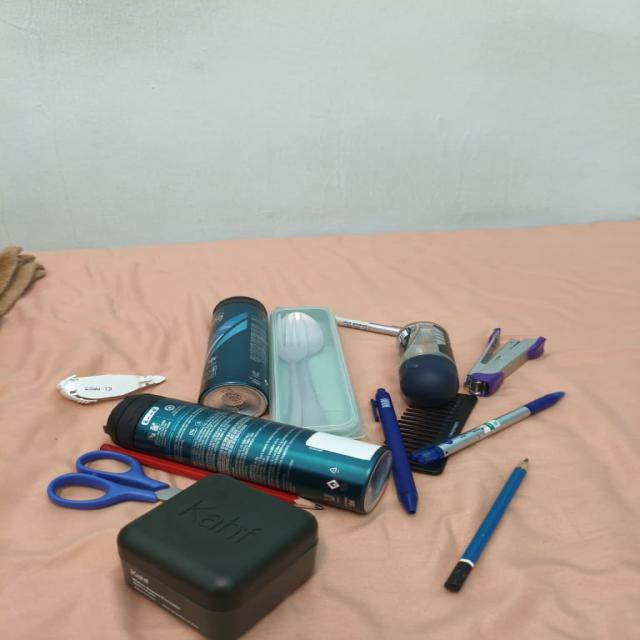pen: (410, 392, 563, 464), (371, 388, 418, 514), (335, 316, 401, 336)
pencil: (444, 459, 528, 592), (102, 444, 211, 479), (243, 481, 322, 508)
scissor: (48, 451, 181, 509)
stapler: (464, 328, 545, 397)
